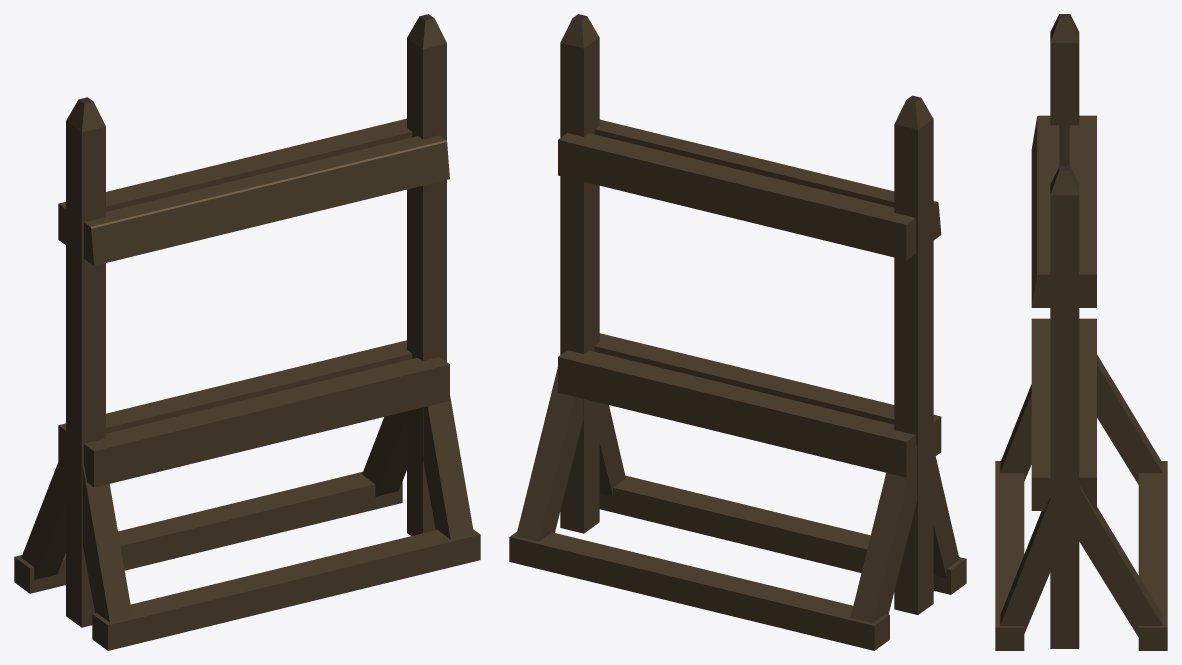
Rendered from Spear Rack.fbx.
3 renders of one model, left to right at view 1: azimuth 30°, elevation 25°; view 2: azimuth 150°, elevation 25°; view 3: azimuth 270°, elevation 25°, orthographic. The views are drawn at different scales.
Visible parts, largest first — view 1: Cube.001; view 2: Cube.001; view 3: Cube.001.
Boxes of the visible parts, x1,y1,x2,y2 form: Cube.001: (14,14,480,650); Cube.001: (509,14,966,650); Cube.001: (995,14,1167,650).
Bounding box in the file's own units: 121 × 160 × 52.66.
